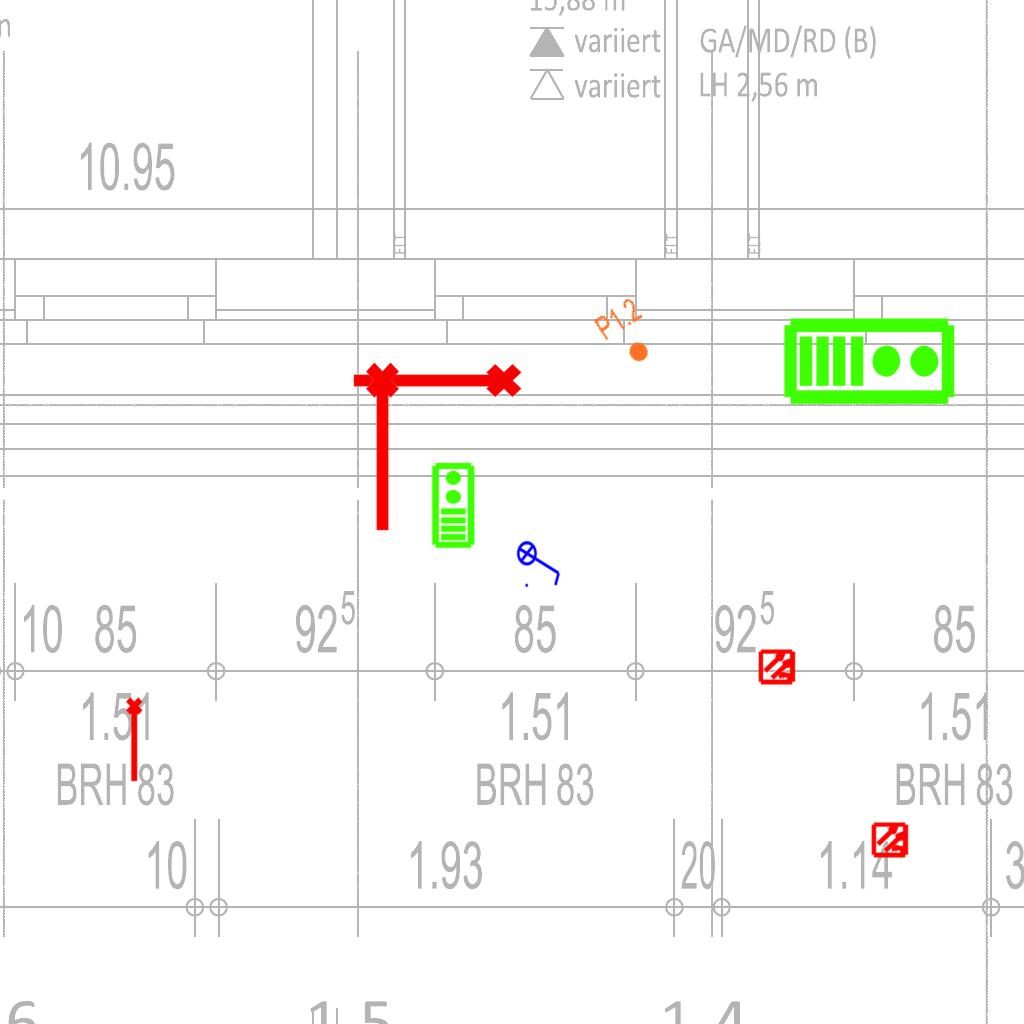ASR_Ansaugoeffnung: (348, 360, 524, 406), (362, 360, 408, 536), (124, 696, 147, 784)
Ausschalter_beleuchtet: (516, 534, 564, 590)
Downlight_LED_Einbauleuchten_Flur: (591, 294, 665, 374)
Gegensprechanlage_mit_Video: (782, 312, 958, 407), (429, 461, 476, 549)
OT_Multisensormelder_(Kombination_RMO_WMD): (863, 812, 919, 868), (750, 639, 806, 695)
